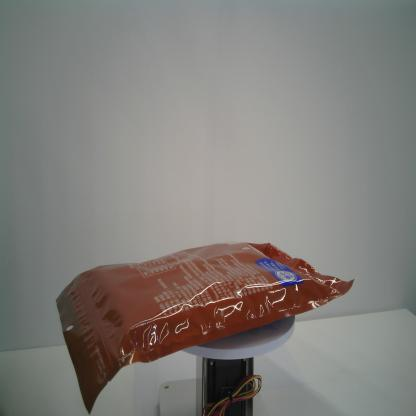Dried Food: (55, 240, 355, 415)
